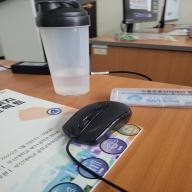mouse: (68, 94, 144, 149)
